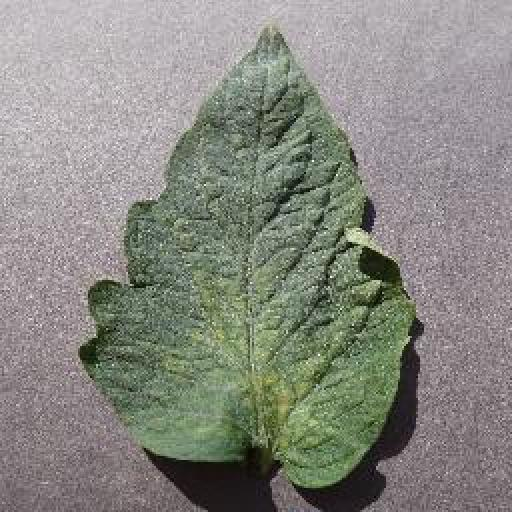Spider Mites: (78, 20, 414, 489)
